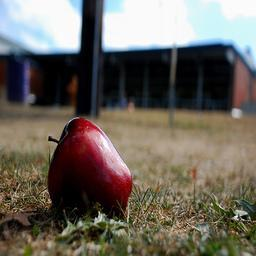apple: (45, 120, 133, 225)
